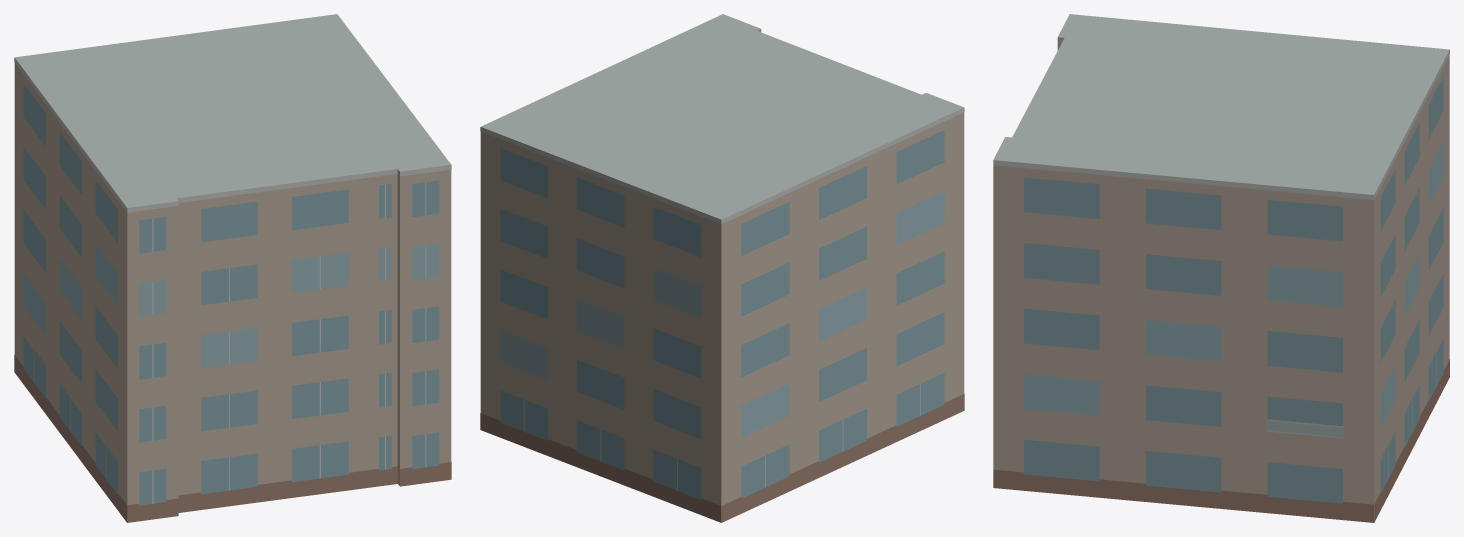
Rendered from survey-upis-32536264.glb.
The picture shows the model from 3 angles, left to right: view 1: azimuth 30°, elevation 25°; view 2: azimuth 150°, elevation 25°; view 3: azimuth 270°, elevation 25°; orthographic projection. The views are drawn at different scales.
Parts seen in each view (by area): view 1: survey-upis-32536264.tmp; view 2: survey-upis-32536264.tmp; view 3: survey-upis-32536264.tmp.
Boxes of the visible parts, box(x1,y1,x2,y2) form: survey-upis-32536264.tmp: box(14, 14, 451, 522); survey-upis-32536264.tmp: box(480, 14, 964, 522); survey-upis-32536264.tmp: box(993, 14, 1449, 522).
Size of the model in its own units: 18.72 by 15.8 by 19.95.
